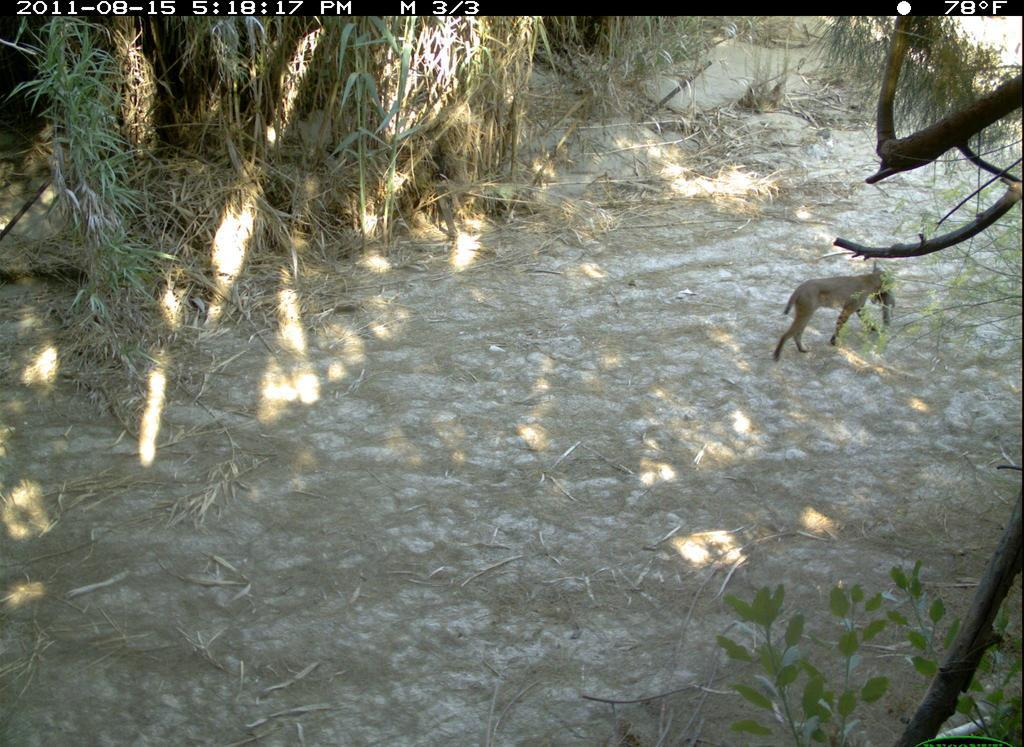bobcat: (769, 264, 899, 373)
